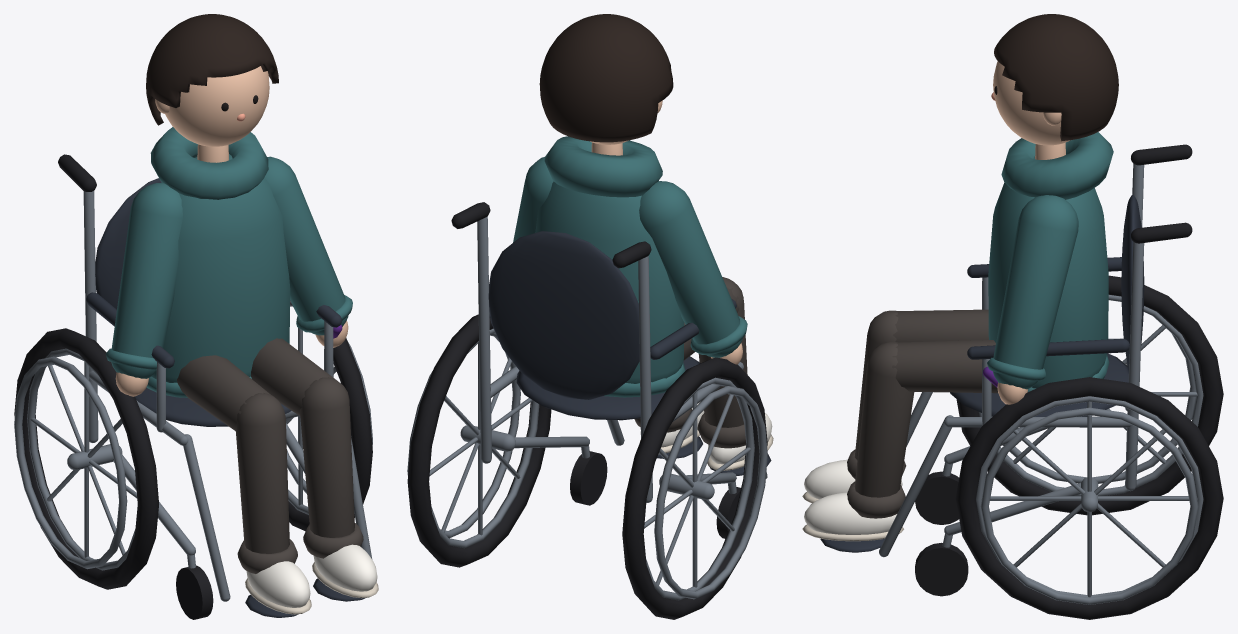
The model's file is Votante_Silla_Ruedas.fbx.
The picture shows the model from 3 angles, left to right: view 1: azimuth 30°, elevation 25°; view 2: azimuth 150°, elevation 25°; view 3: azimuth 270°, elevation 25°; orthographic projection.
Visible parts, largest first — view 1: Votante_Silla_Ruedas; view 2: Votante_Silla_Ruedas; view 3: Votante_Silla_Ruedas.
Boxes of the visible parts, left/top/right/bottom form: Votante_Silla_Ruedas: left=14, top=14, right=378, bottom=619; Votante_Silla_Ruedas: left=407, top=14, right=773, bottom=619; Votante_Silla_Ruedas: left=802, top=14, right=1223, bottom=619.
Size of the model in its own units: 0.7073 by 1.47 by 1.03.
